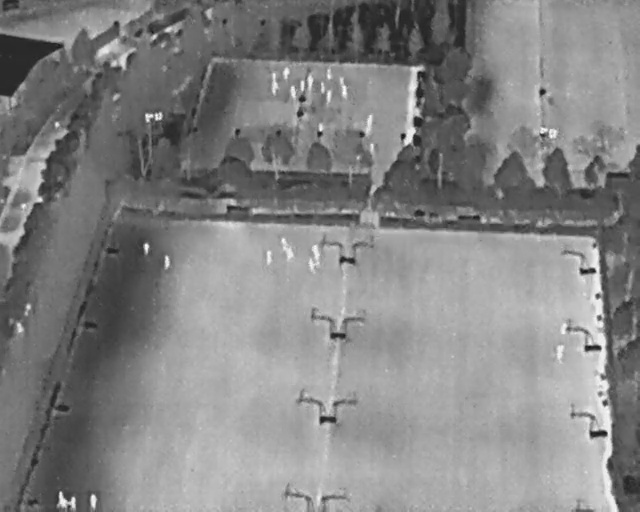Person: (308, 242, 323, 263), (55, 489, 69, 511), (554, 344, 567, 364), (365, 112, 375, 133), (87, 491, 98, 510), (161, 255, 172, 272), (307, 257, 318, 274), (305, 74, 314, 92), (68, 494, 78, 510), (282, 65, 291, 81), (279, 236, 290, 249), (325, 90, 333, 107), (142, 242, 151, 257), (286, 248, 295, 263), (297, 79, 307, 92), (326, 66, 334, 82), (265, 250, 273, 266), (270, 82, 279, 96), (288, 86, 297, 100), (341, 84, 348, 101), (270, 72, 279, 84), (318, 82, 326, 95), (368, 143, 376, 155), (560, 323, 568, 335), (337, 75, 345, 86), (317, 121, 324, 133)
